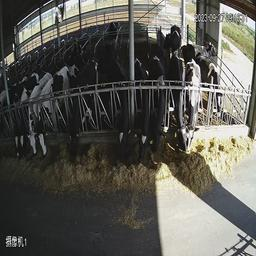cow: (68, 47, 101, 160), (105, 50, 133, 163), (39, 53, 65, 161), (148, 45, 171, 165), (197, 43, 227, 130), (187, 55, 209, 156), (134, 52, 152, 169), (18, 60, 38, 162), (172, 46, 190, 157), (7, 66, 25, 160), (166, 18, 185, 46)
